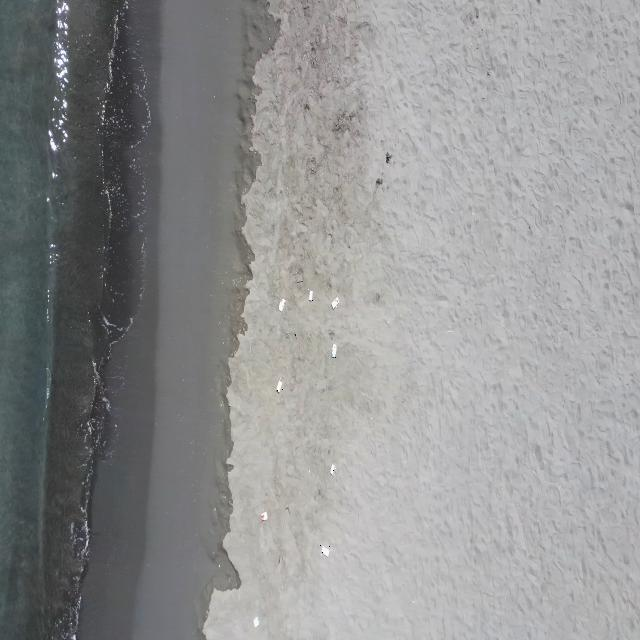Garbage: (320, 544, 329, 555), (331, 296, 339, 308), (252, 615, 259, 627), (329, 464, 335, 475), (279, 298, 284, 311), (276, 379, 281, 392), (260, 512, 267, 520), (307, 289, 312, 300), (331, 344, 335, 356)
